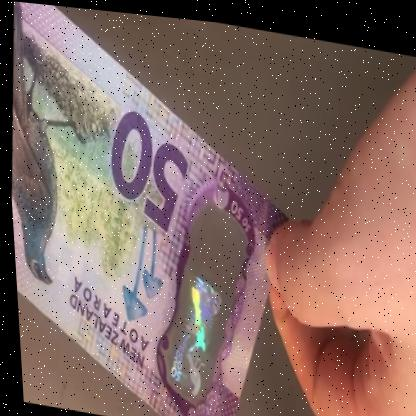50B: (156, 221, 234, 403)
